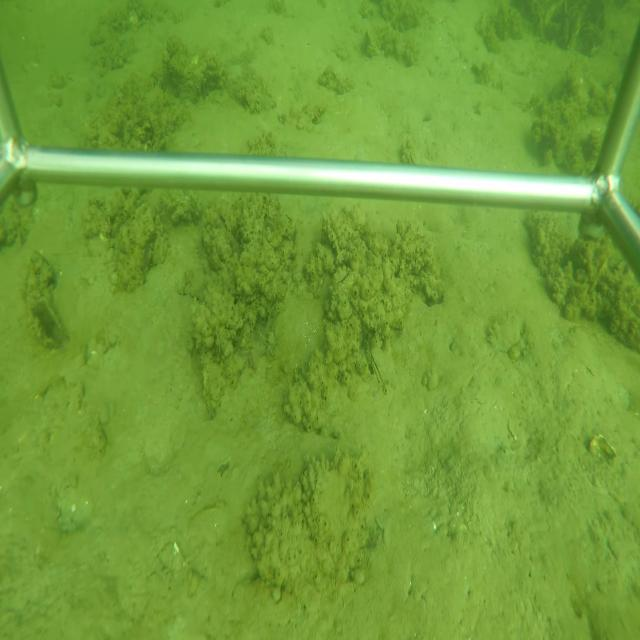Oyster-Closed: (367, 348, 393, 391)
